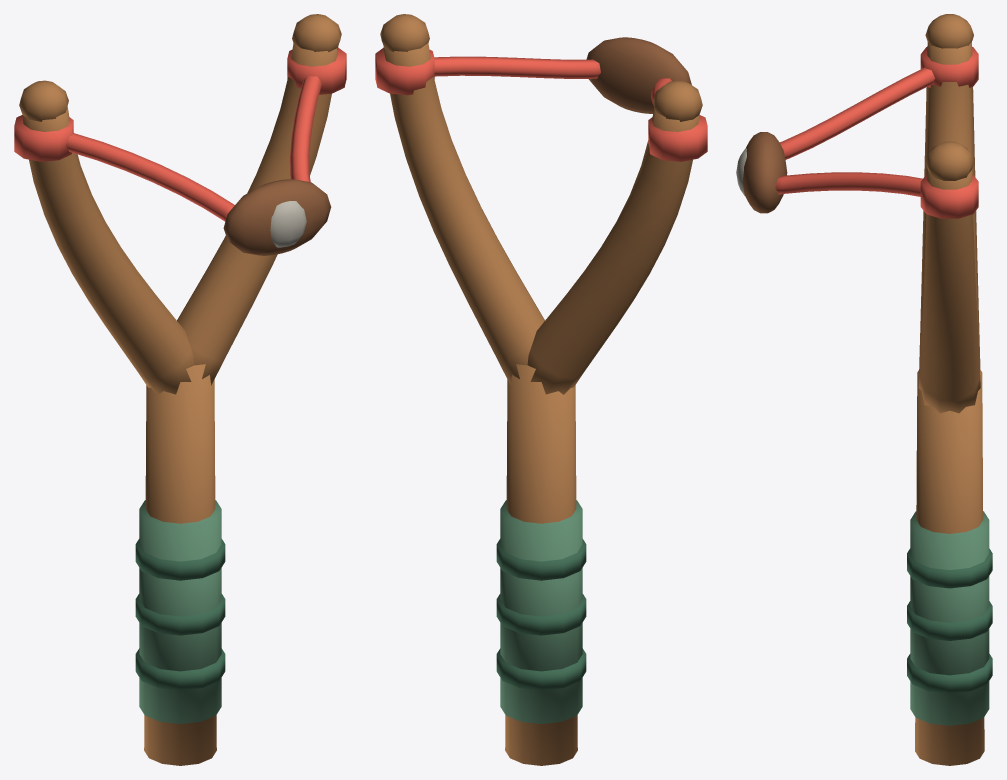
Rendered from tool-sling.glb.
The picture shows the model from 3 angles, left to right: view 1: azimuth 30°, elevation 25°; view 2: azimuth 150°, elevation 25°; view 3: azimuth 270°, elevation 25°; orthographic projection. The views are drawn at different scales.
Visible parts, largest first — view 1: tool; view 2: tool; view 3: tool.
Boxes of the visible parts, bbox=[...] form: tool: bbox=[14, 14, 346, 765]; tool: bbox=[375, 14, 707, 765]; tool: bbox=[736, 14, 992, 765].
Size of the model in its own units: 0.3076 by 0.638 by 0.221.
